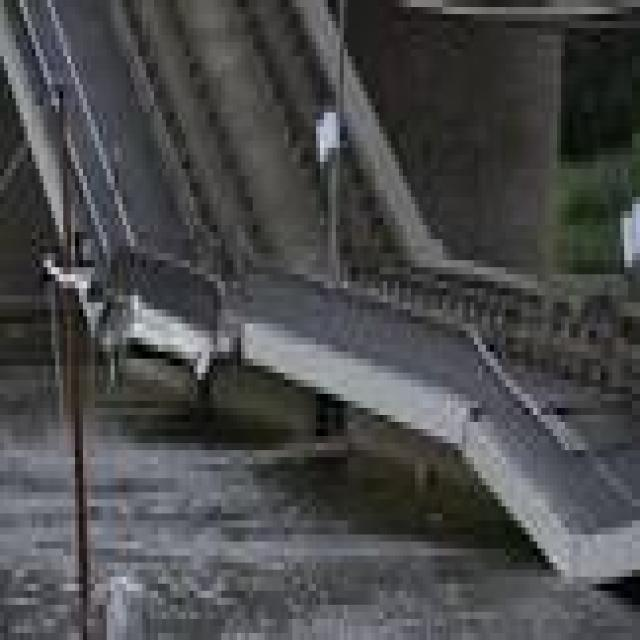bridge collapse: (0, 56, 640, 640)
